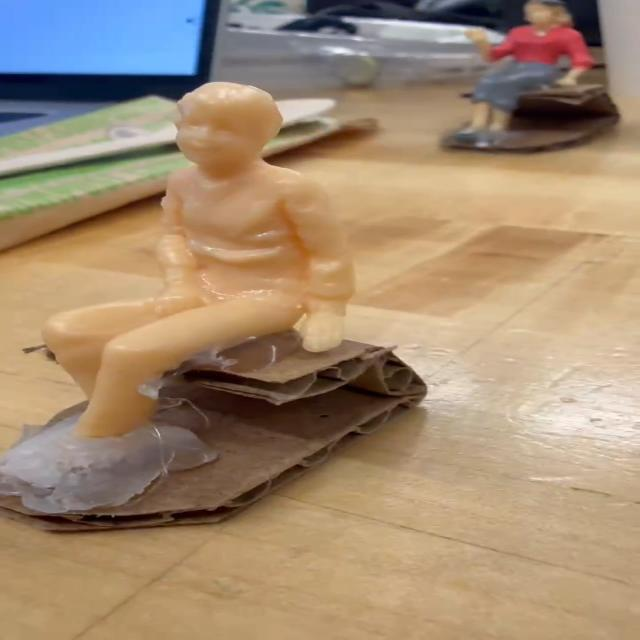Unauthorized: (45, 81, 358, 456)
